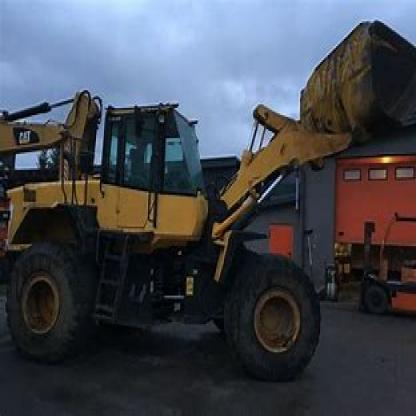bull_dozer/loader/grader: (7, 18, 414, 380)
